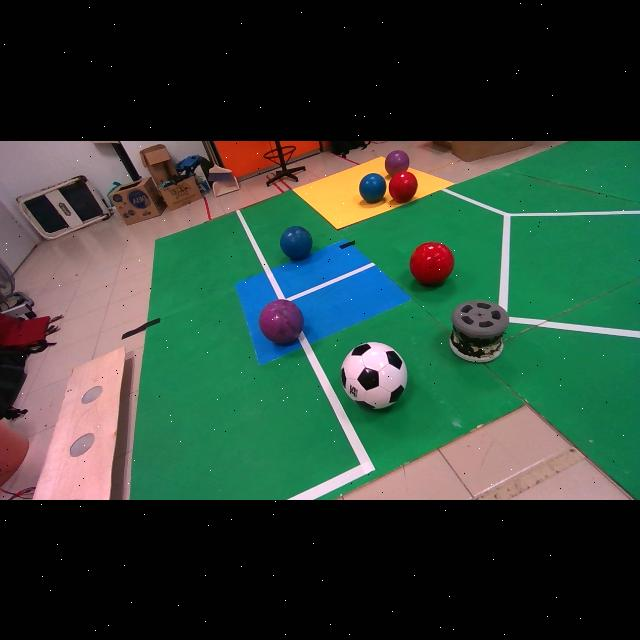B: (280, 225, 312, 259), (360, 172, 386, 202)
P: (385, 150, 409, 175)
R: (409, 241, 454, 285), (389, 170, 418, 202)
